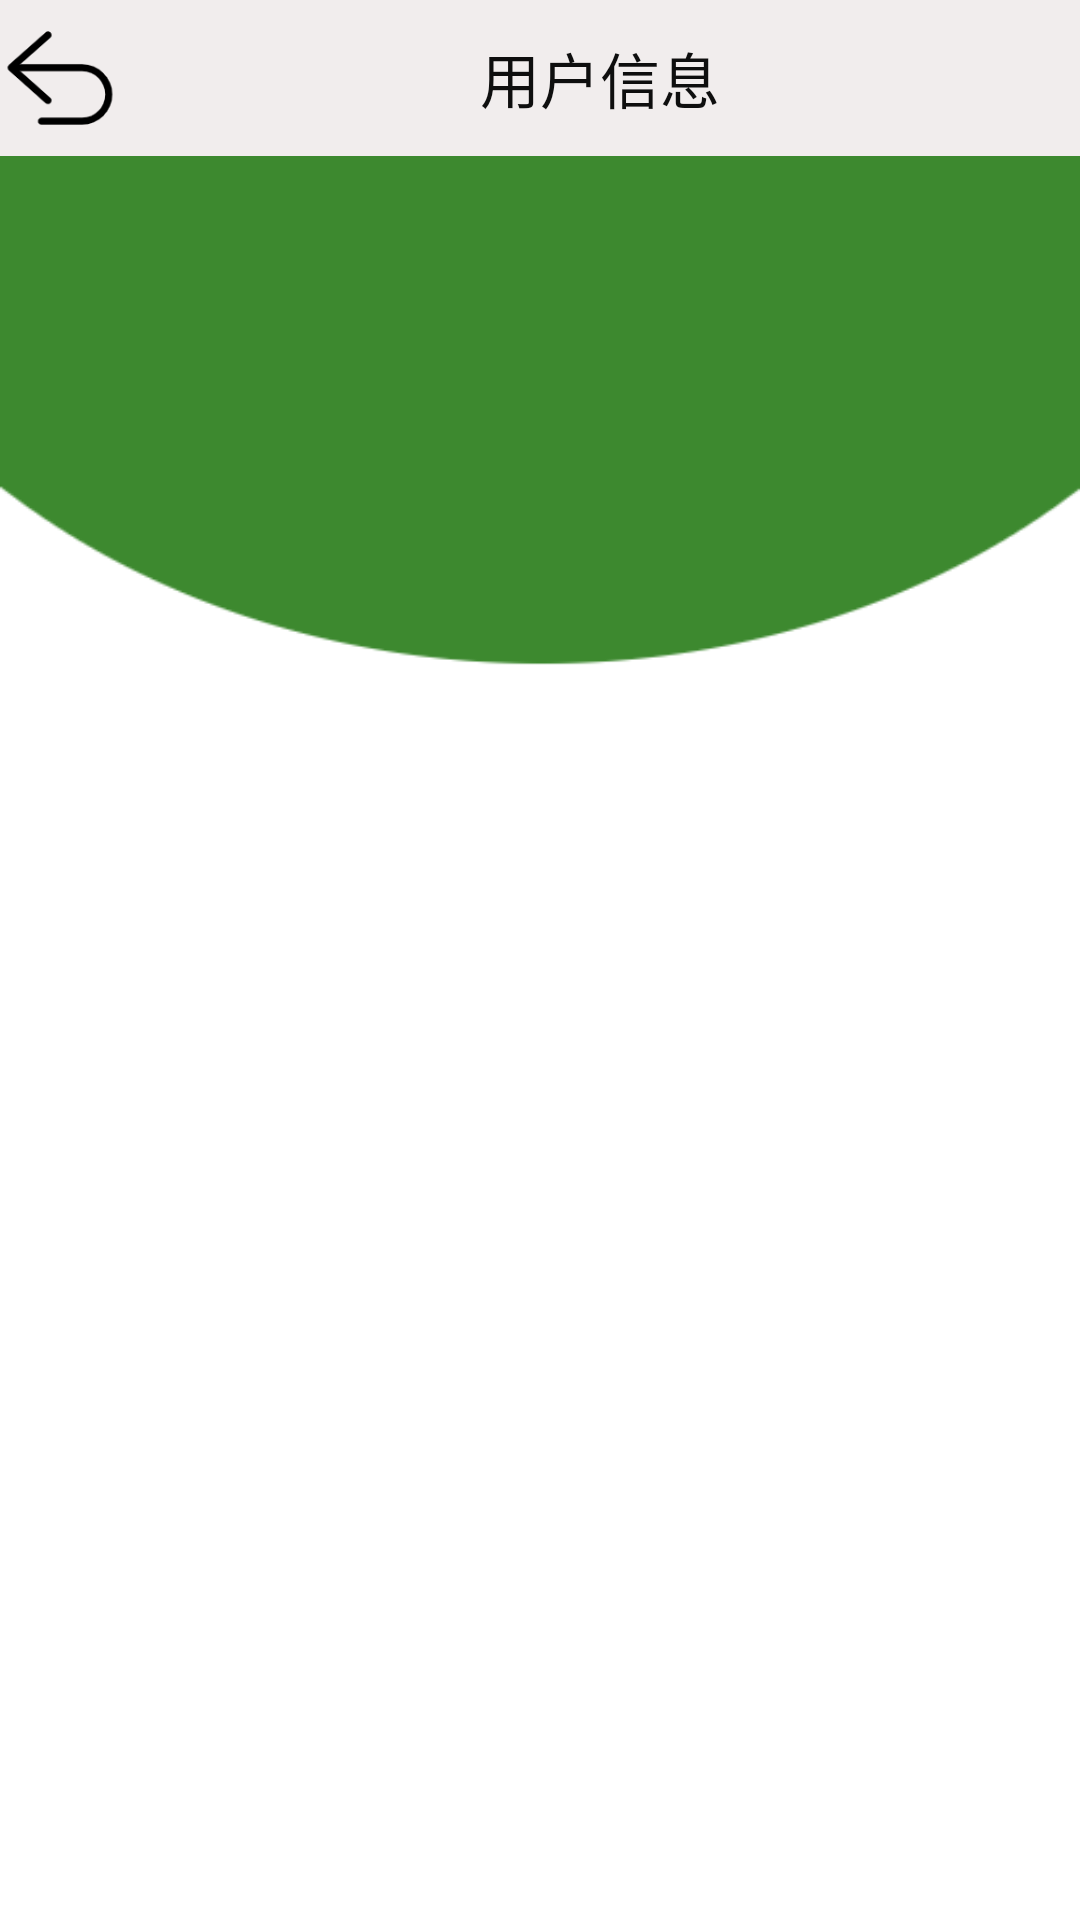

Point at icon controls on the screen. Image size 1080*1920, points as point (x, y).
back: point (60, 78)
